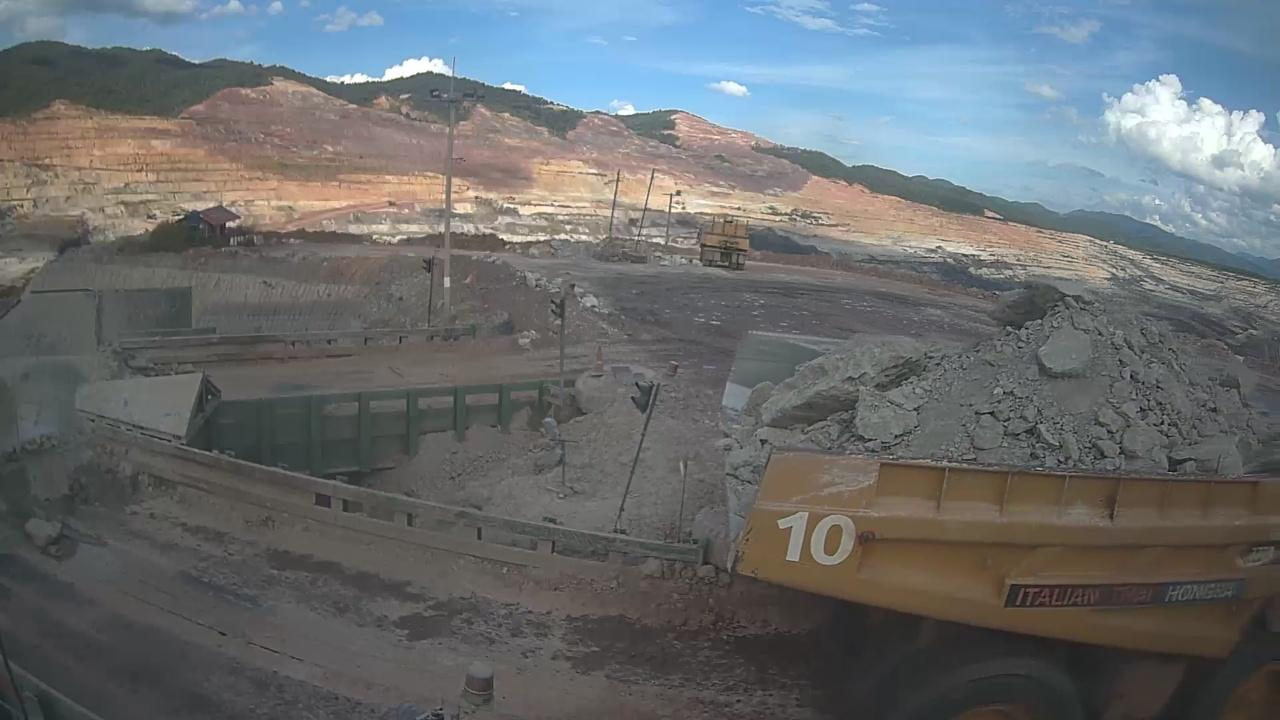company: (1004, 561, 1261, 619)
full_load: (837, 298, 1261, 480)
mining_truck: (718, 259, 1280, 720)
tail_number: (777, 503, 857, 583)
